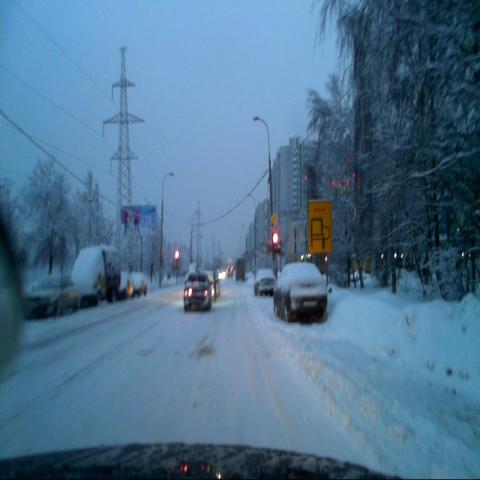2_1: (270, 211, 280, 226)
